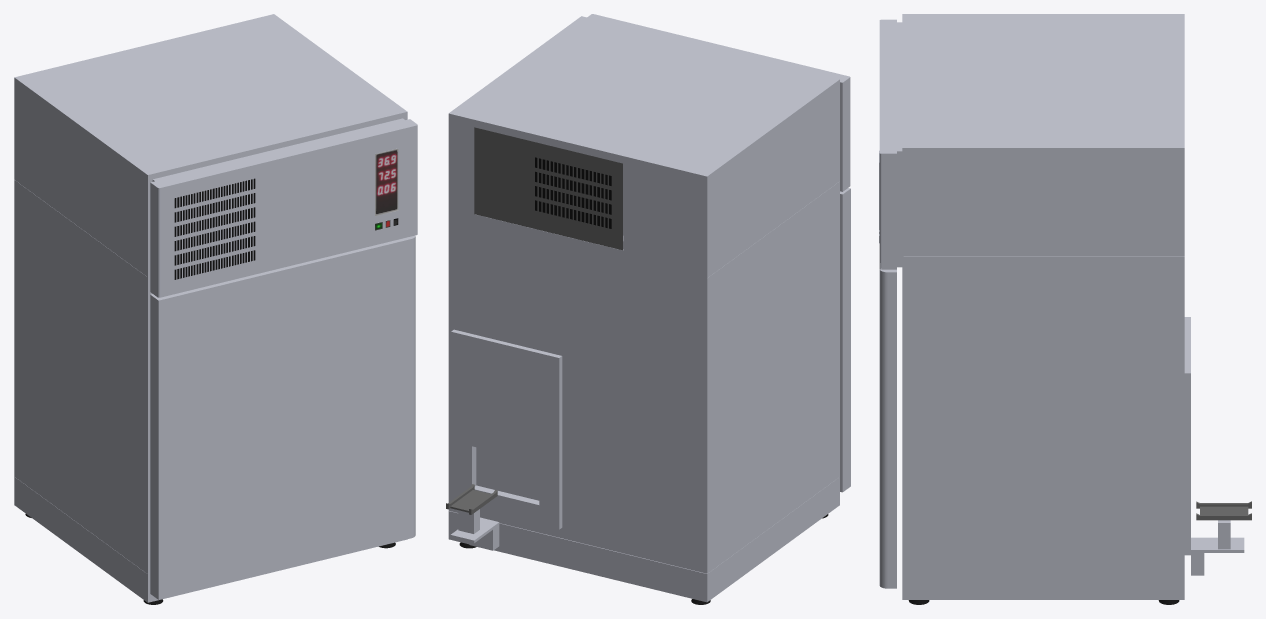
3 renders of one model, left to right at view 1: azimuth 30°, elevation 25°; view 2: azimuth 150°, elevation 25°; view 3: azimuth 270°, elevation 25°, orthographic. The views are drawn at different scales.
Parts seen in each view (by area): view 1: 090; view 2: 090; view 3: 090.
Part boxes in pixels (box(x1,y1,x2,y2)): 090: box(14, 14, 417, 604); 090: box(446, 14, 850, 604); 090: box(879, 14, 1251, 604).
Size of the model in its own units: 186 by 297 by 219.
4 materials, 1 textured.
